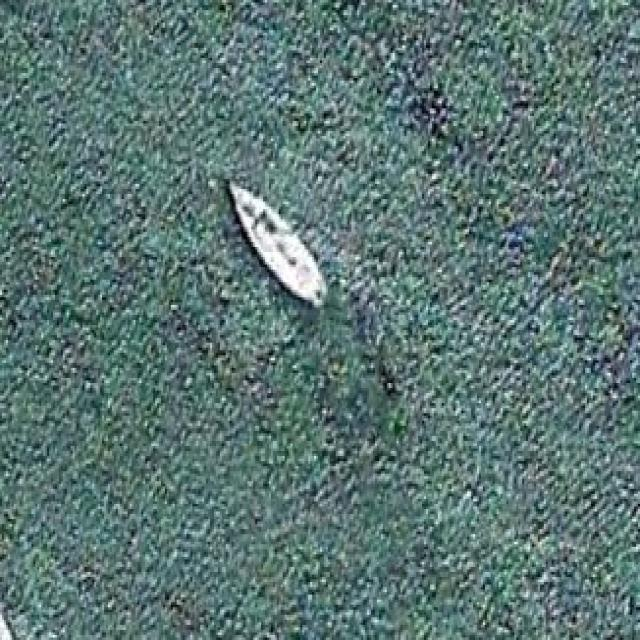ship: (224, 176, 328, 308)
